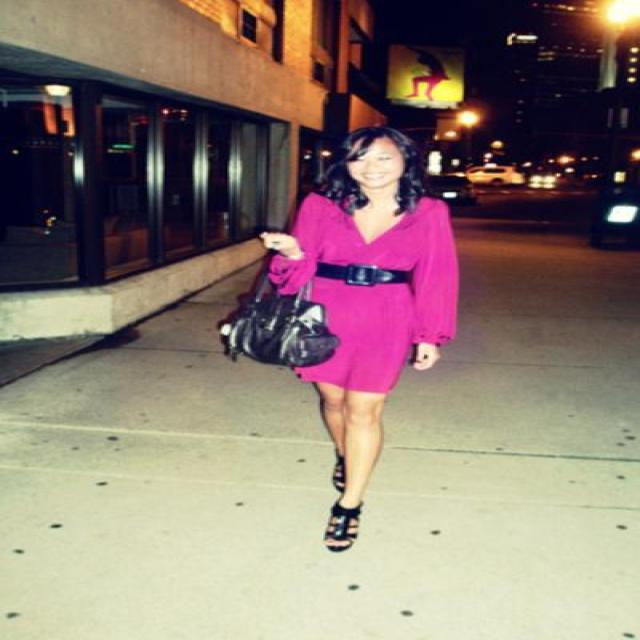bag: (218, 284, 338, 369)
dress: (268, 194, 458, 393)
shoe: (326, 500, 362, 540)
